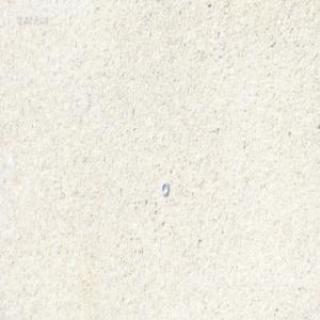Washertrack_idkeyframe: (160, 180, 168, 197)
